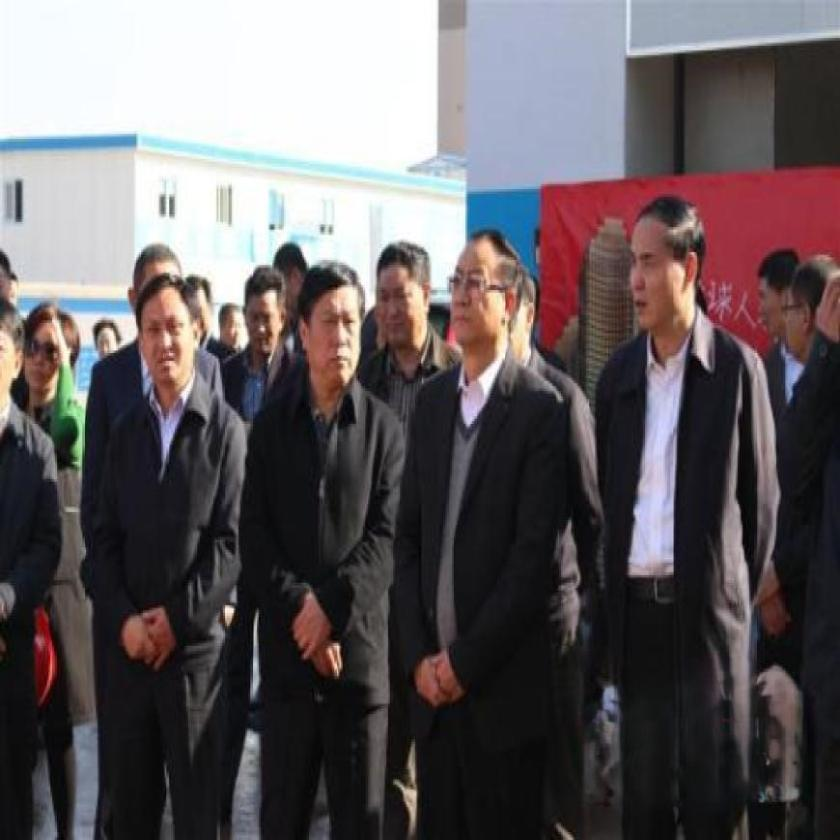Sin_casco: (620, 182, 714, 357), (449, 229, 526, 375), (297, 262, 370, 411), (375, 238, 442, 368), (134, 285, 204, 399), (18, 296, 81, 412), (783, 252, 837, 365), (240, 266, 284, 362), (750, 248, 798, 335)
